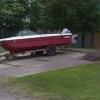Boat: (2, 22, 82, 55)
